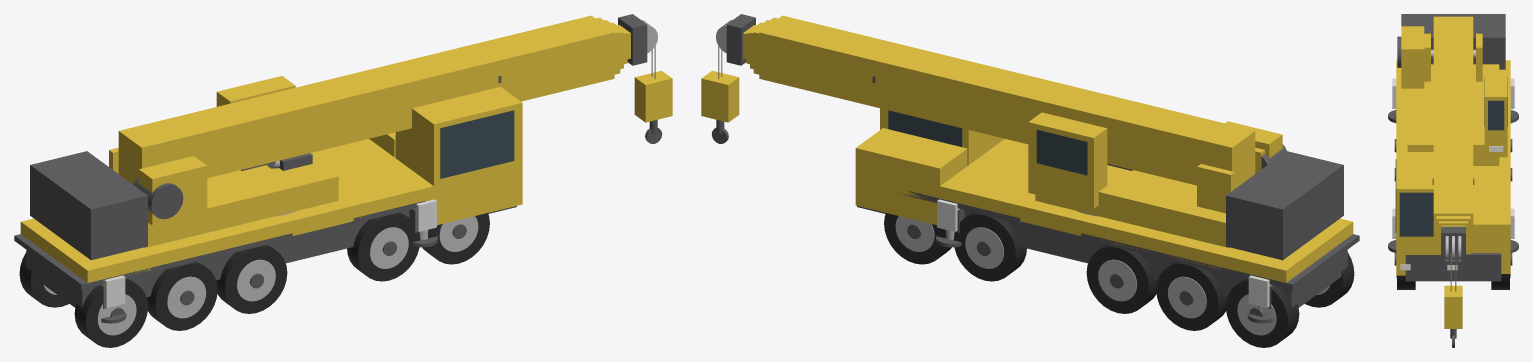
Rendered from SM_MobileCrane.fbx.
The picture shows the model from 3 angles, left to right: view 1: azimuth 30°, elevation 25°; view 2: azimuth 150°, elevation 25°; view 3: azimuth 270°, elevation 25°; orthographic projection. The views are drawn at different scales.
Visible parts, largest first — view 1: MC_Carrier, MC_Boom_Base, MC_Superstructure, MC_Wheel_A3R, MC_Wheel_A4R, MC_Wheel_A2R, MC_Wheel_A5R, MC_Wheel_A1R, MC_HookBlock, MC_Boom_Tele4, MC_Wheel_A5L, MC_OutriggerBeam_RR (+1 smaller); view 2: MC_Boom_Base, MC_Carrier, MC_Superstructure, MC_Wheel_A3L, MC_Wheel_A4L, MC_Wheel_A2L, MC_Wheel_A5L, MC_Wheel_A1L, MC_HookBlock, MC_Boom_Tele4, MC_Wheel_A5R, MC_OutriggerBeam_RL (+1 smaller); view 3: MC_Carrier, MC_Superstructure, MC_Boom_Base, MC_Boom_Tele4, MC_HookBlock, MC_Boom_Tele1, MC_Boom_Tele2, MC_Wheel_A1L, MC_Wheel_A1R, MC_OutriggerBeam_FL, MC_OutriggerBeam_RL, MC_OutriggerBeam_RR (+2 smaller).
Boxes of the visible parts, bbox=[...] form: MC_Carrier: bbox=[14, 76, 522, 308]; MC_Boom_Base: bbox=[118, 15, 614, 184]; MC_Superstructure: bbox=[30, 76, 338, 260]; MC_Wheel_A3R: bbox=[216, 245, 287, 313]; MC_Wheel_A4R: bbox=[146, 262, 217, 330]; MC_Wheel_A2R: bbox=[347, 212, 420, 281]; MC_Wheel_A5R: bbox=[74, 279, 147, 347]; MC_Wheel_A1R: bbox=[422, 213, 489, 264]; MC_HookBlock: bbox=[634, 70, 672, 143]; MC_Boom_Tele4: bbox=[617, 14, 657, 65]; MC_Wheel_A5L: bbox=[19, 252, 69, 307]; MC_OutriggerBeam_RR: bbox=[103, 275, 125, 307]; MC_Boom_Base: bbox=[759, 15, 1255, 188]; MC_Carrier: bbox=[855, 76, 1359, 308]; MC_Superstructure: bbox=[1028, 112, 1343, 260]; MC_Wheel_A3L: bbox=[1086, 245, 1157, 313]; MC_Wheel_A4L: bbox=[1156, 262, 1227, 330]; MC_Wheel_A2L: bbox=[953, 212, 1026, 281]; MC_Wheel_A5L: bbox=[1226, 279, 1299, 347]; MC_Wheel_A1L: bbox=[884, 213, 951, 264]; MC_HookBlock: bbox=[701, 70, 739, 143]; MC_Boom_Tele4: bbox=[716, 14, 756, 65]; MC_Wheel_A5R: bbox=[1304, 252, 1354, 307]; MC_OutriggerBeam_RL: bbox=[1248, 275, 1270, 307]; MC_Carrier: bbox=[1395, 60, 1510, 281]; MC_Superstructure: bbox=[1397, 14, 1507, 165]; MC_Boom_Base: bbox=[1433, 16, 1473, 253]; MC_Boom_Tele4: bbox=[1441, 226, 1465, 264]; MC_HookBlock: bbox=[1444, 285, 1462, 347]; MC_Boom_Tele1: bbox=[1436, 216, 1470, 253]; MC_Boom_Tele2: bbox=[1438, 221, 1468, 253]; MC_Wheel_A1L: bbox=[1491, 252, 1512, 289]; MC_Wheel_A1R: bbox=[1394, 252, 1415, 289]; MC_OutriggerBeam_FL: bbox=[1510, 208, 1514, 238]; MC_OutriggerBeam_RL: bbox=[1510, 78, 1514, 108]; MC_OutriggerBeam_RR: bbox=[1392, 78, 1396, 108].
Size of the model in its own units: 1467 by 390 by 314.
